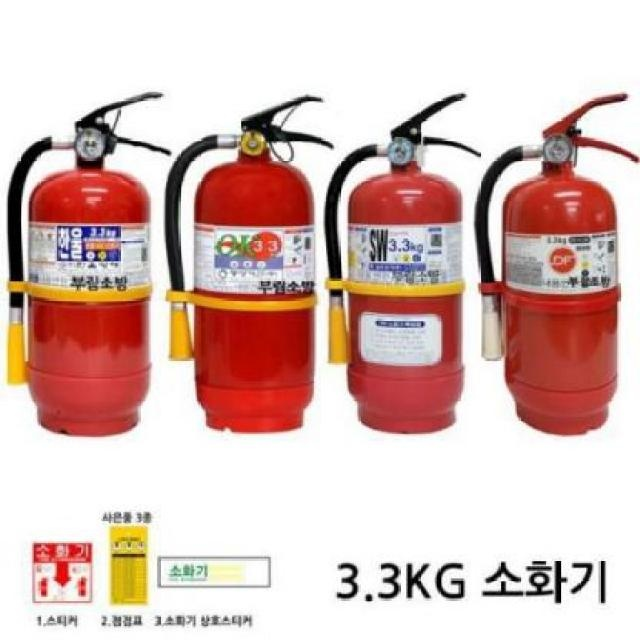fire extinguisher: (162, 95, 335, 434), (472, 92, 640, 437), (6, 91, 171, 437), (322, 91, 481, 434)
